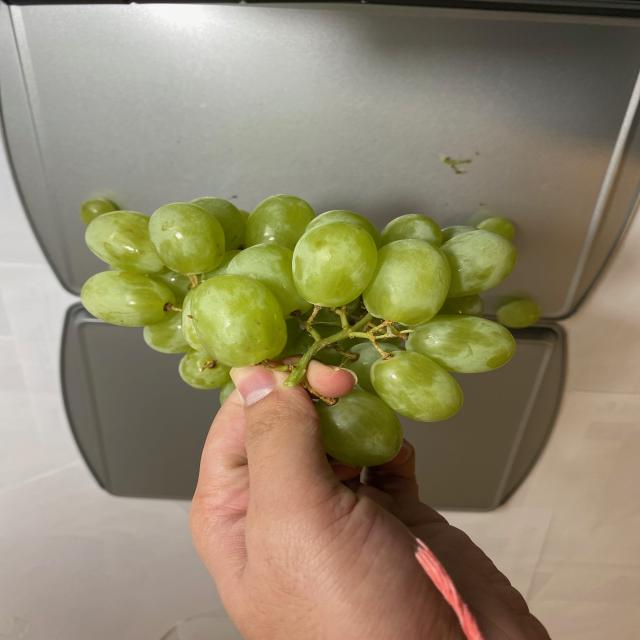grapes: (76, 213, 540, 465)
